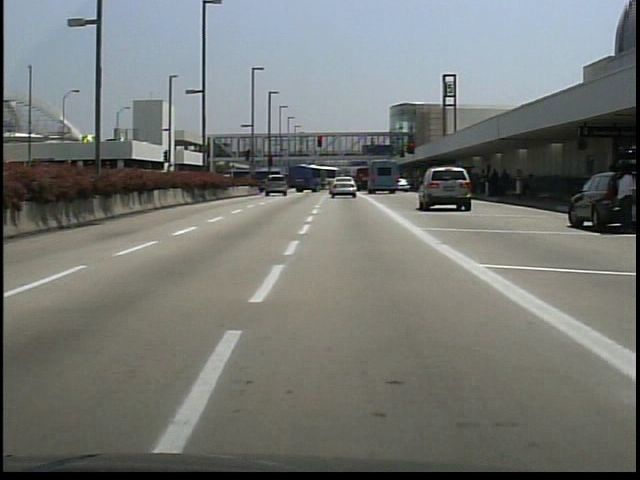person: (611, 165, 637, 232)
